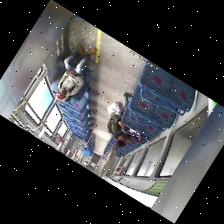person: (9, 0, 69, 96), (56, 44, 96, 101), (108, 112, 136, 147)
